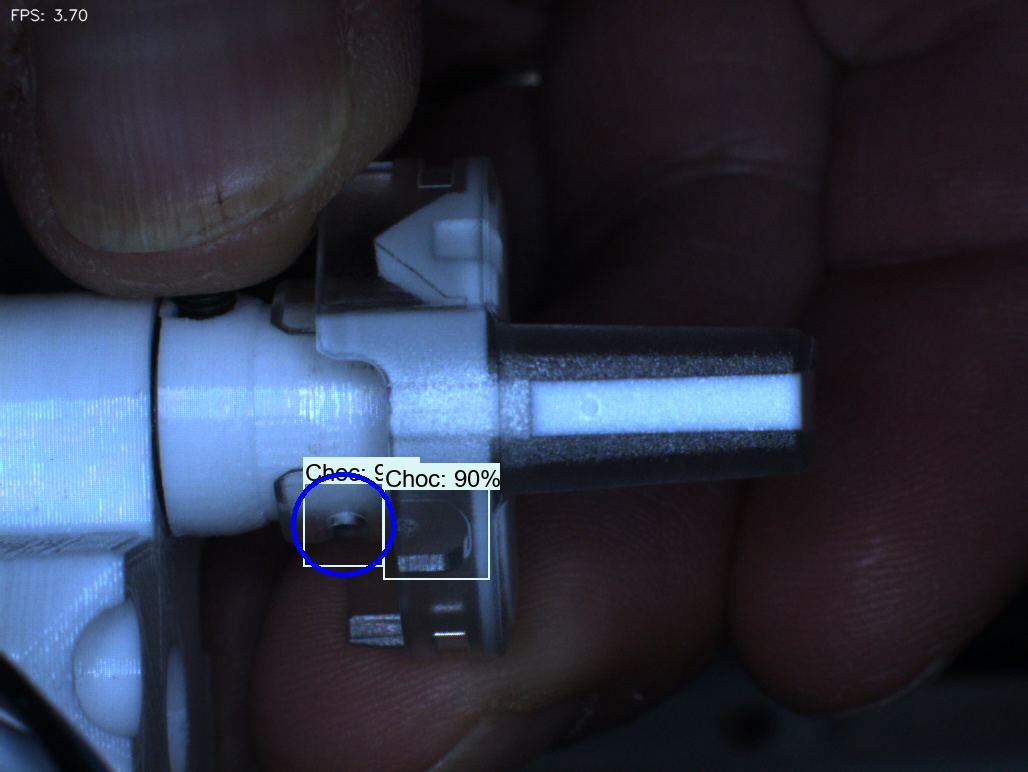DentOk: (339, 208, 421, 296)
